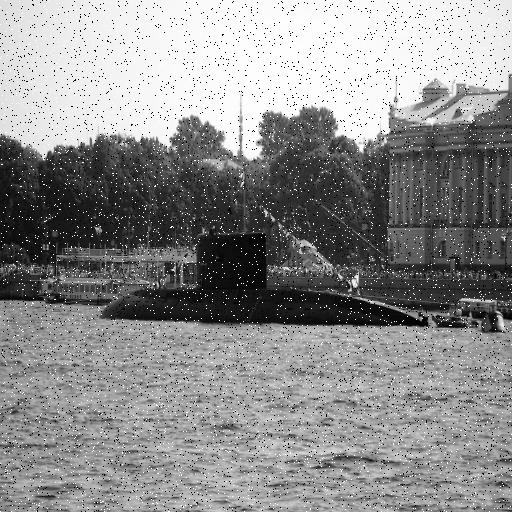submarine: (94, 231, 429, 328)
